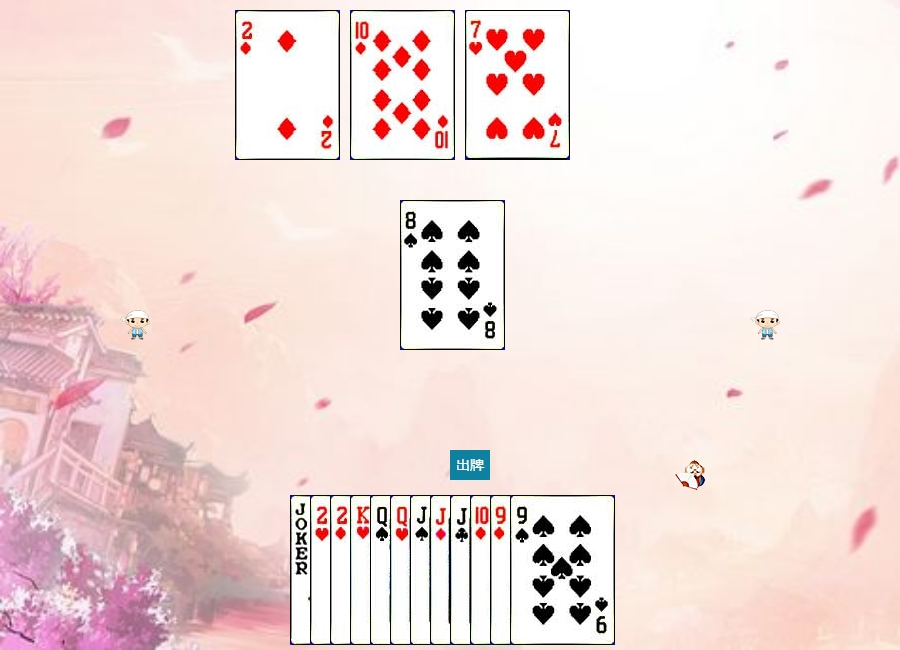10~1: (350, 10, 455, 160), (470, 495, 575, 645)
11~1: (430, 495, 535, 645)
11~2: (450, 495, 555, 645)
11~4: (410, 495, 515, 645)
12~3: (390, 495, 495, 645)
12~4: (370, 495, 475, 645)
13~3: (350, 495, 455, 645)
15~1: (235, 10, 340, 160), (330, 495, 435, 645)
15~3: (310, 495, 415, 645)
17~3: (290, 495, 395, 645)
7~3: (465, 10, 570, 160)
8~4: (400, 200, 505, 350)
9~1: (490, 495, 595, 645)
9~4: (510, 495, 615, 645)
